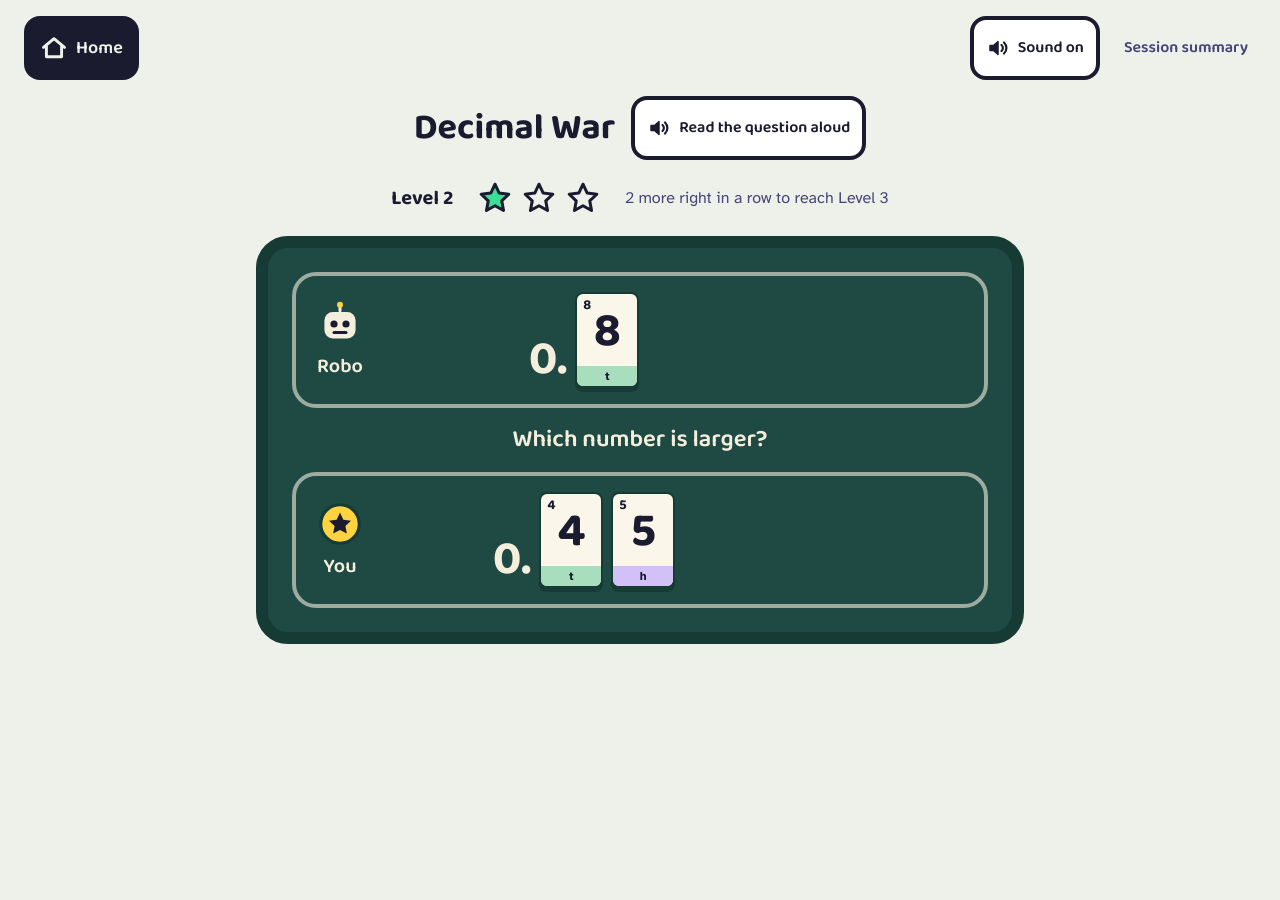
Test: a wrong pick names the larger number and offers Show me why without asking for a hint
Click the button with aria-label "Your number, 0.45": {"x": 640, "y": 540} [292,472,988,608]
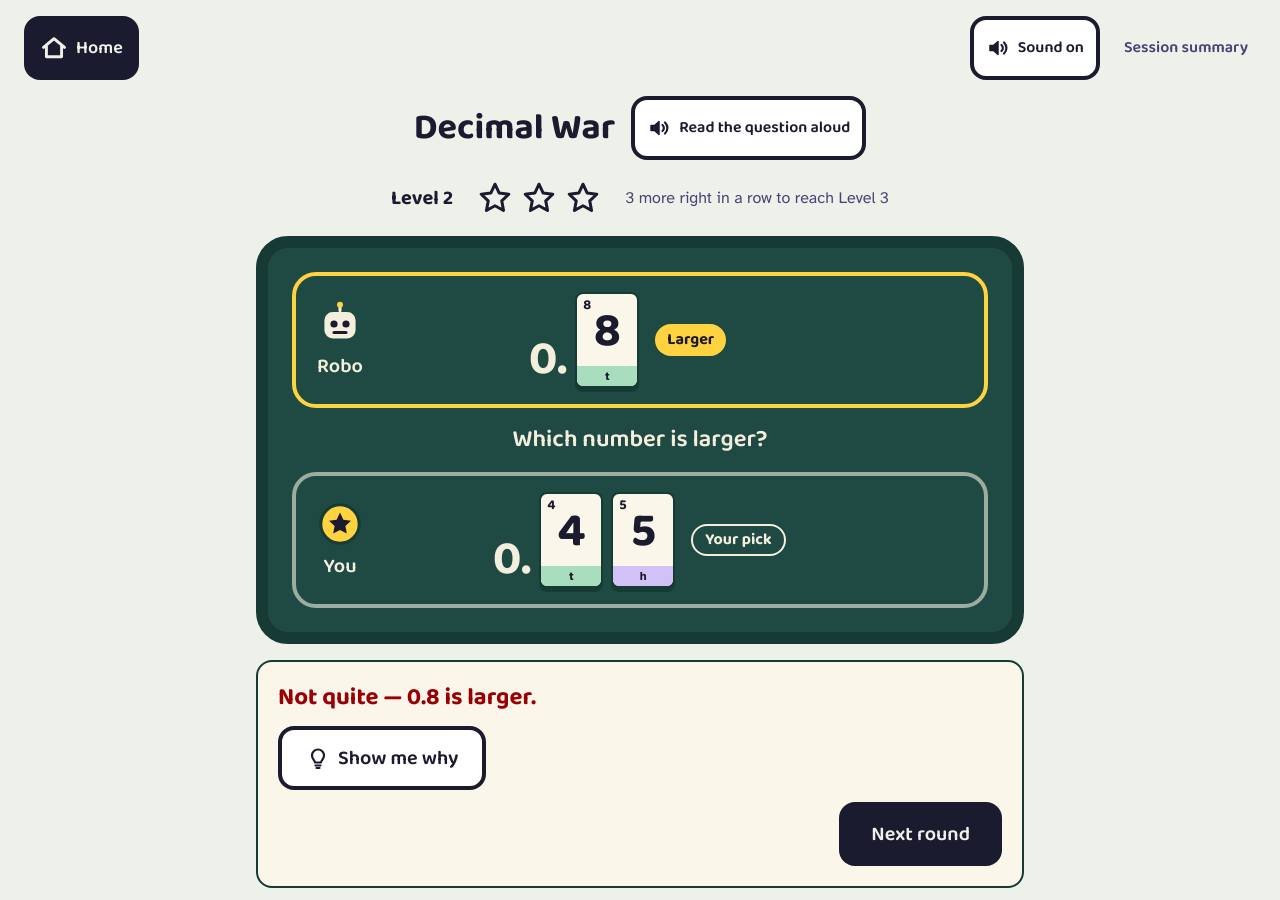
Now the text "Not quite — 0.8 is larger." is shown, box [278,678,536,717]
Now the text "Larger" is shown, box [655,324,726,356]
Now the picture named "0 of 3 stars" is shown, box [469,176,609,220]
